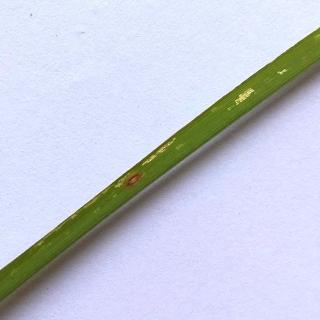Blast: (229, 81, 265, 113), (114, 165, 148, 196)
